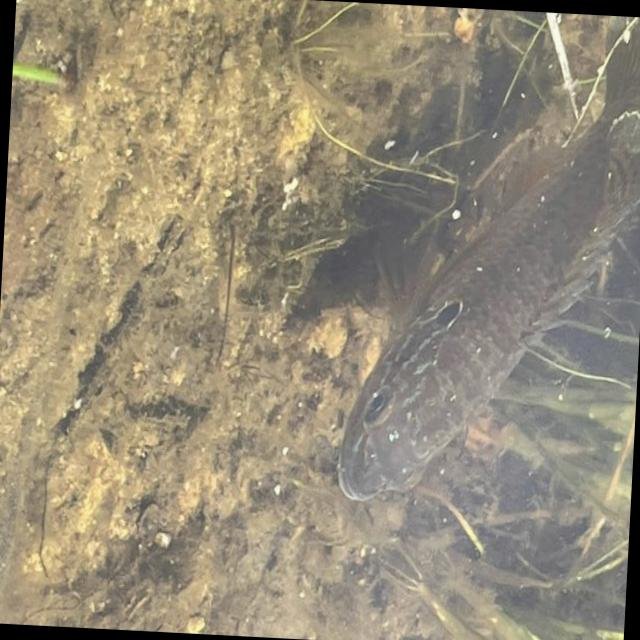Gunes Levregi: (328, 7, 640, 526)
